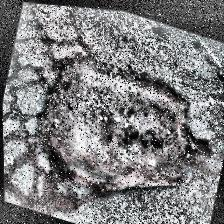pothole: (25, 42, 224, 220)
